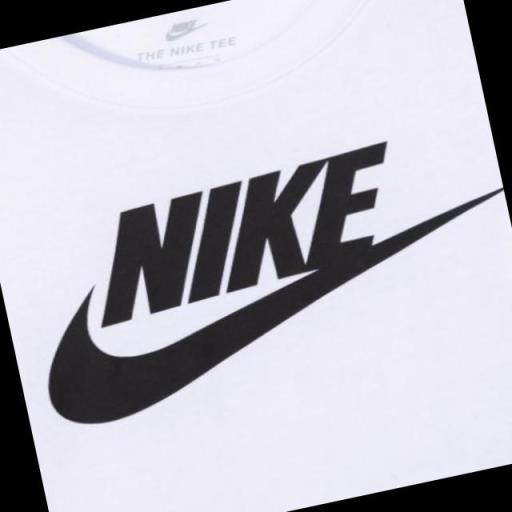Nike: (23, 182, 512, 436), (72, 138, 414, 332)
